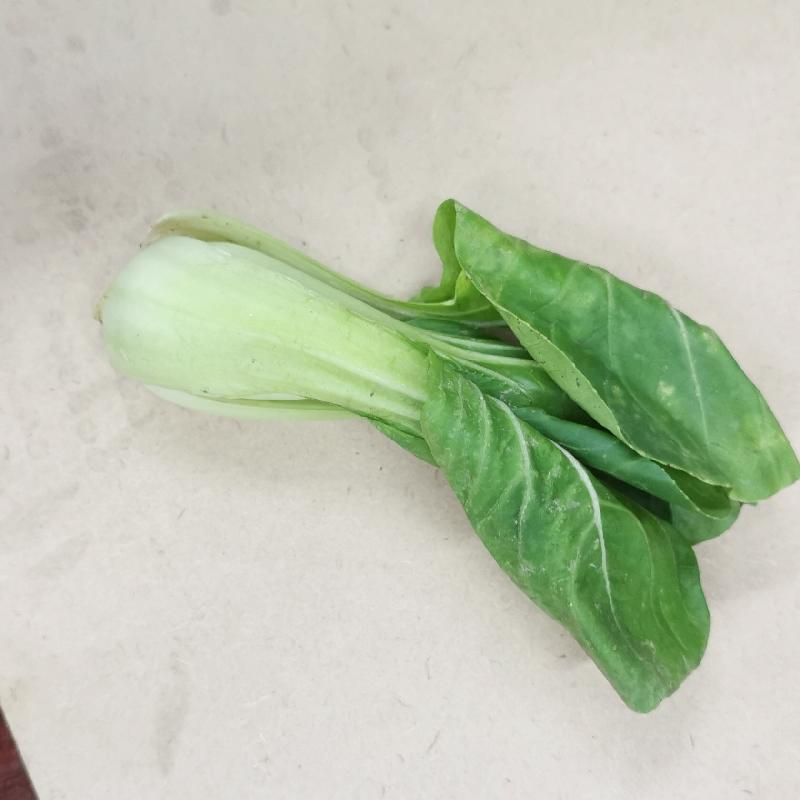green vegatable: (99, 199, 800, 712)
